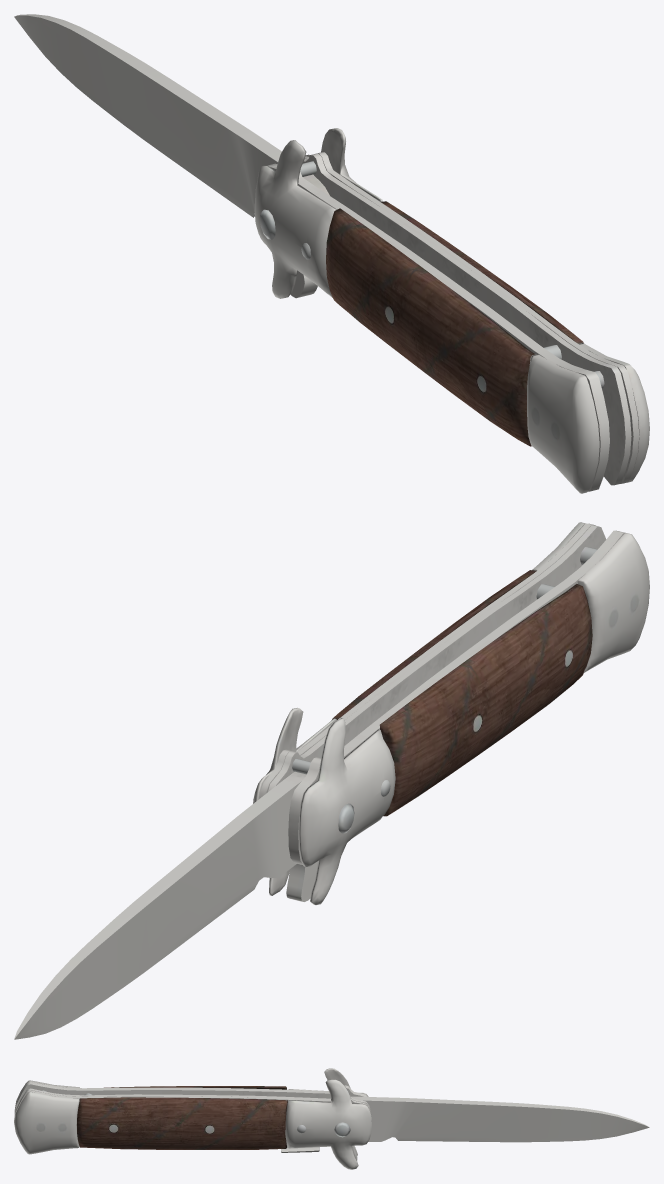
Rendered from b_sustali.glb.
3 views of the same model, one above another, from view 1: azimuth 30°, elevation 25°; view 2: azimuth 150°, elevation 25°; view 3: azimuth 270°, elevation 25° (orthographic). The views are drawn at different scales.
Parts seen in each view (by area): view 1: sap, govde; view 2: sap, govde; view 3: sap, govde.
Boxes of the visible parts, x1,y1,x2,y2 form: sap: (254,128,649,493); govde: (14,14,329,298); sap: (253,522,649,904); govde: (14,771,317,1039); sap: (14,1068,371,1169); govde: (351,1096,649,1160).
Size of the model in its own units: 0.0193 by 0.0354 by 0.2273.
1 material, 1 textured.
